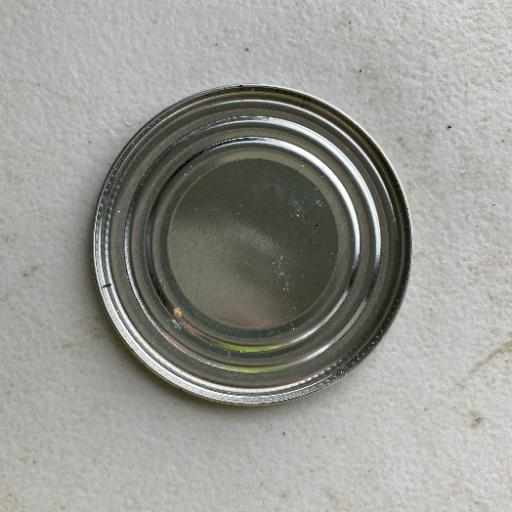Metal: (89, 82, 414, 408)
